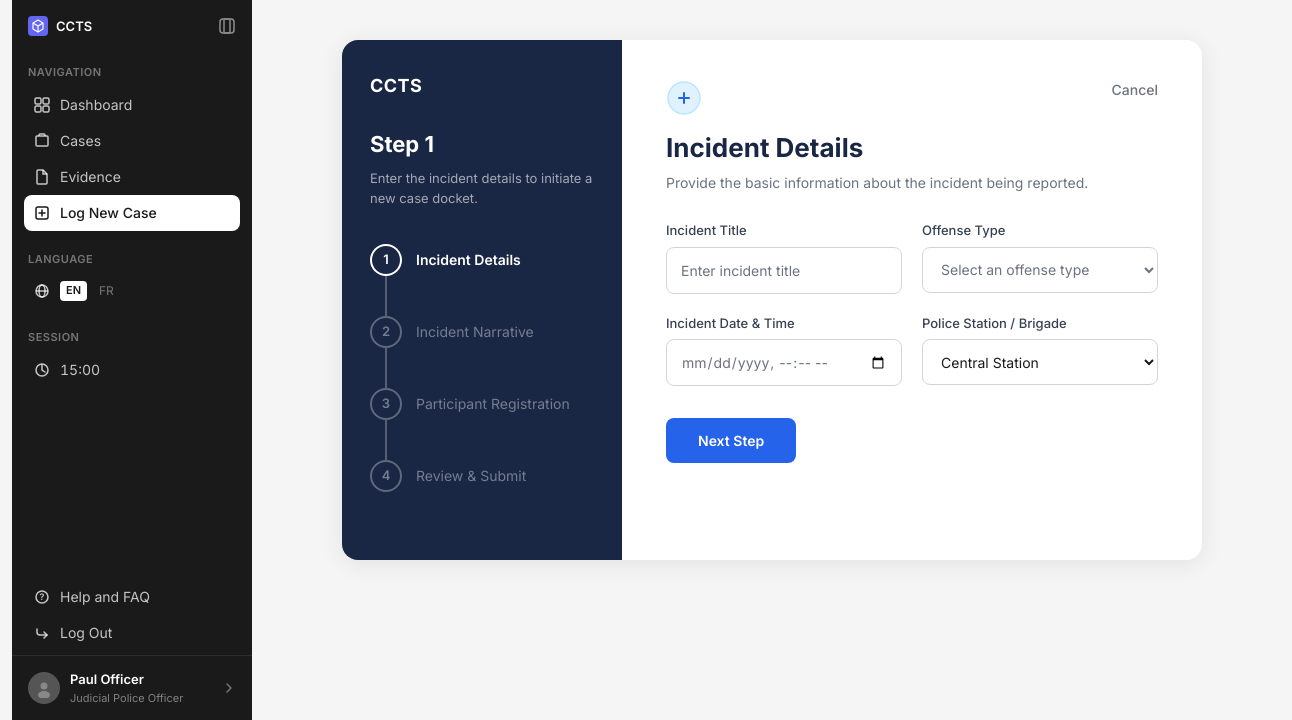
Test: P2 case initiation › checks each step before moving on
expect the field labelled "Incident Title" is shown: met, box [666,246,902,294]
Step 1. Click the button "Next Step" → (731, 440), box [666,418,796,463]
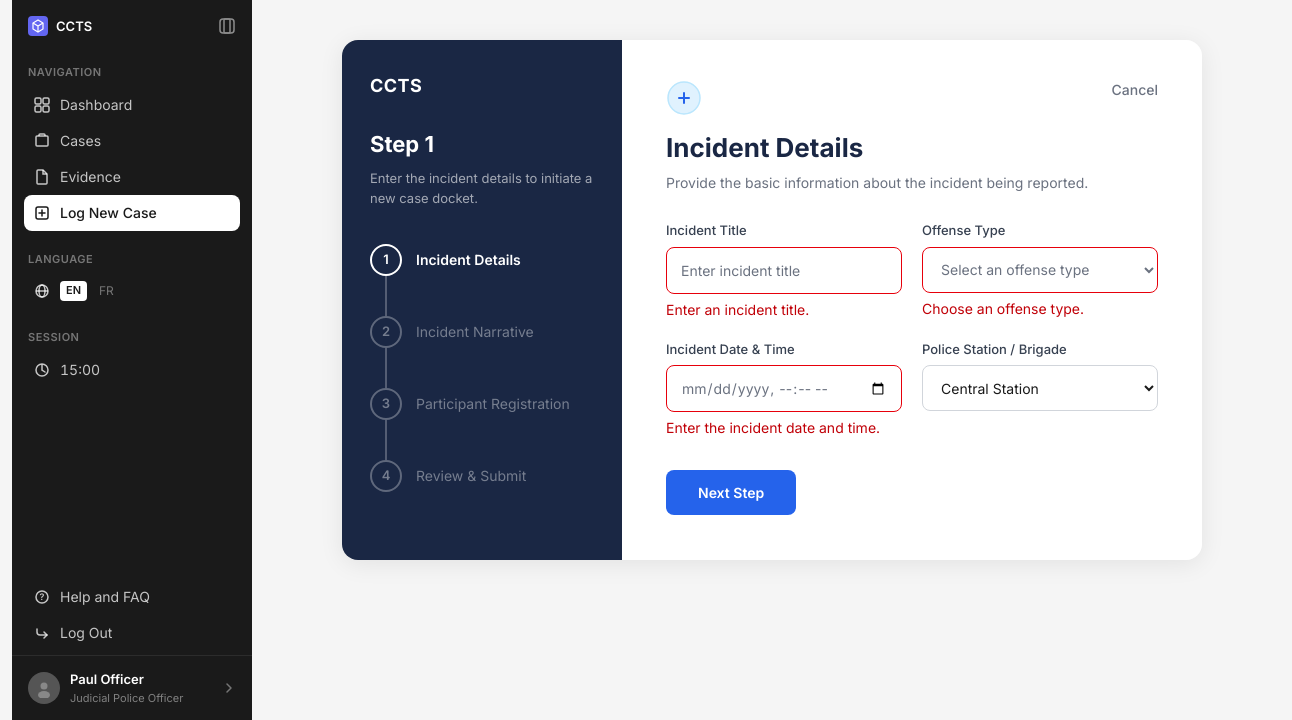
expect the heading "Incident Details" is shown: met, box [666,132,863,163]
expect the text "Enter an incident title." is shown: met, box [666,300,809,318]
expect the text "Choose an offense type." is shown: met, box [922,300,1084,316]
Step 2. Type "Market theft" into the field labelled "Incident Title" → (784, 270), box [666,246,902,294]
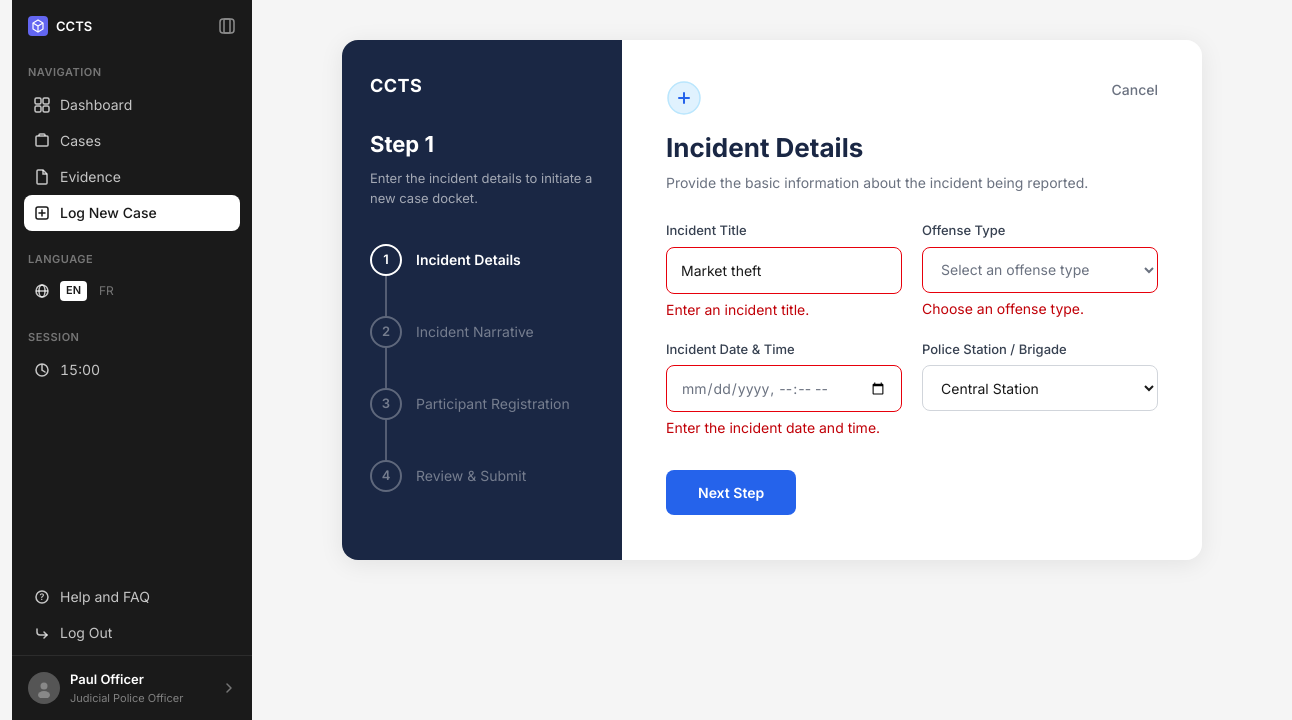
Step 3. Select "Theft" in the dropdown labelled "Offense Type" → (1040, 270), box [922,246,1158,292]
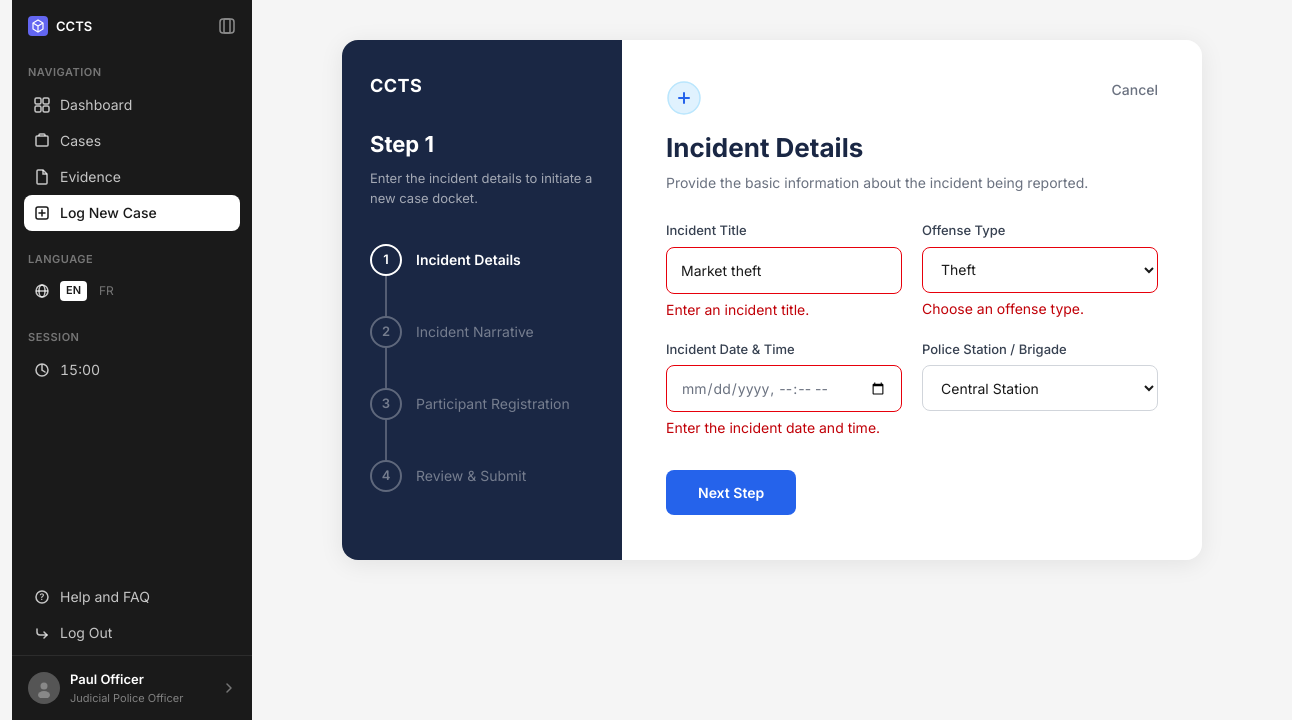
Step 4. Type "2026-01-15T14:30" into the field labelled "Incident Date & Time" → (784, 388), box [666,365,902,412]
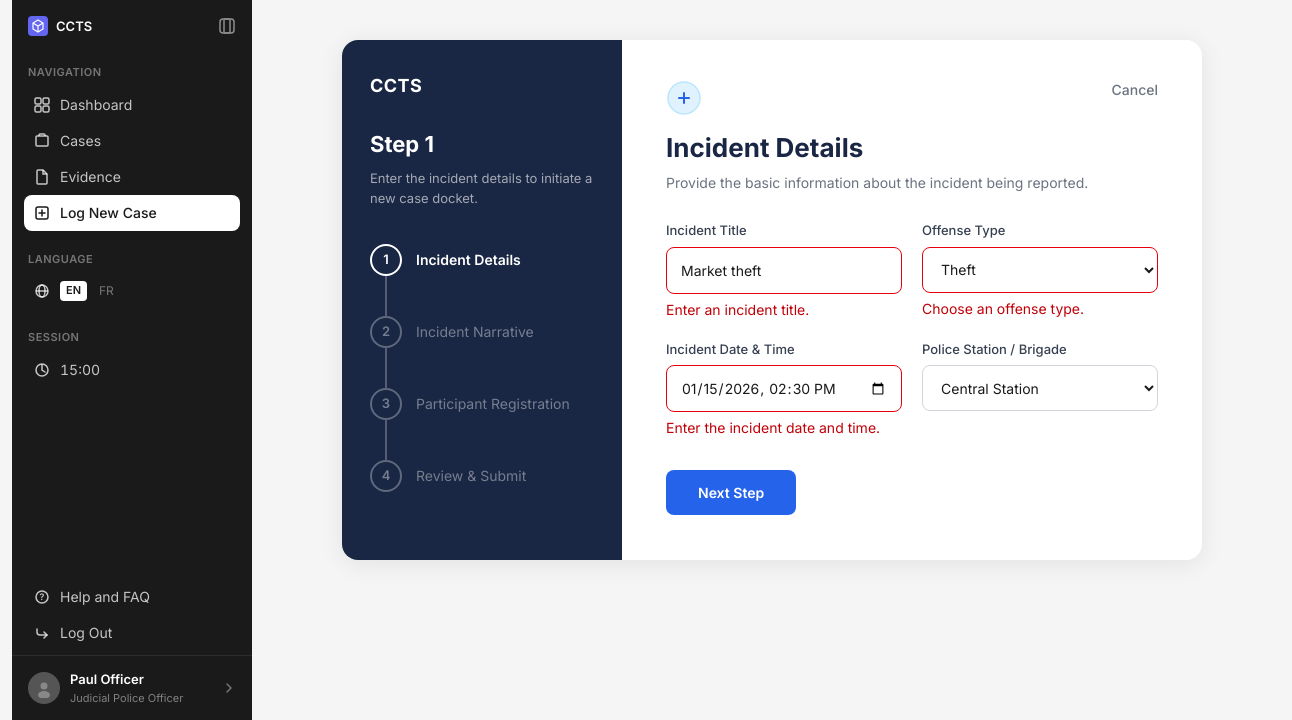
Step 5. Replace the text in the field labelled "Incident Date & Time" with "2999-01-01T10:00" → (784, 388), box [666,365,902,412]
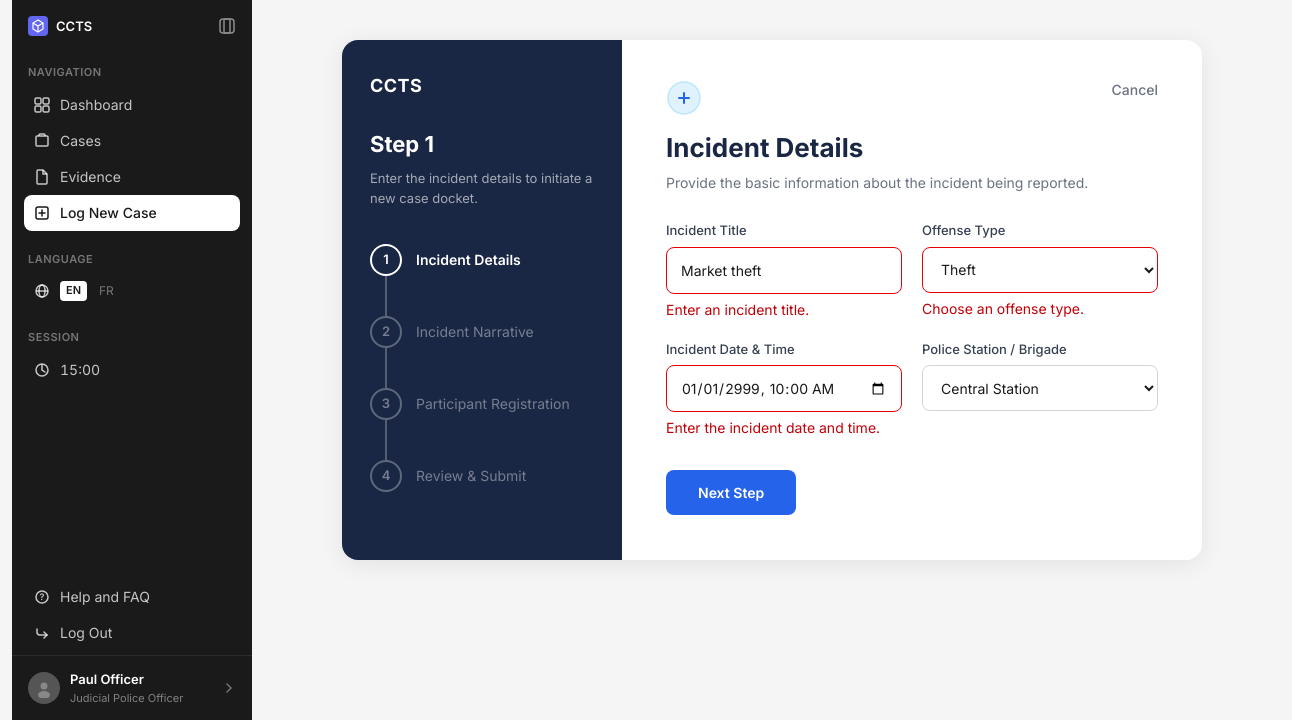
Step 6. Click the button "Next Step" → (731, 492), box [666,470,796,515]
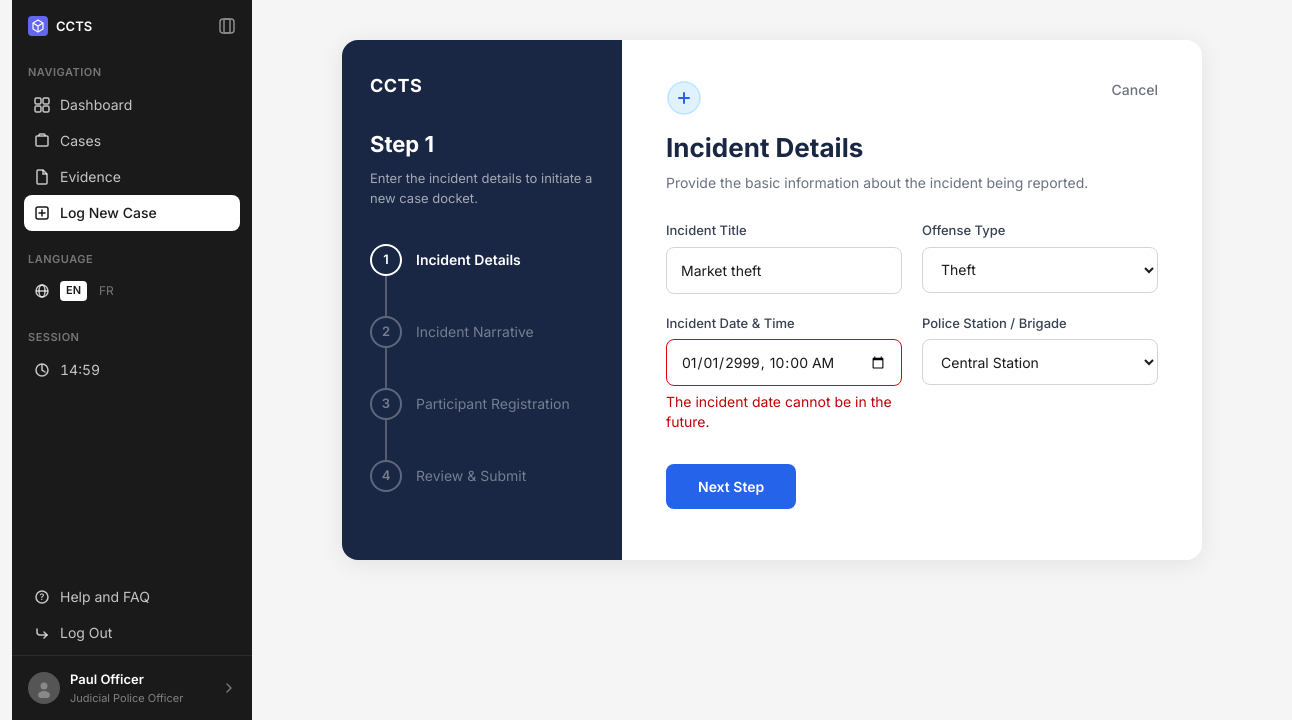
expect the text "The incident date cannot be in the future." is shown: met, box [666,392,902,432]
